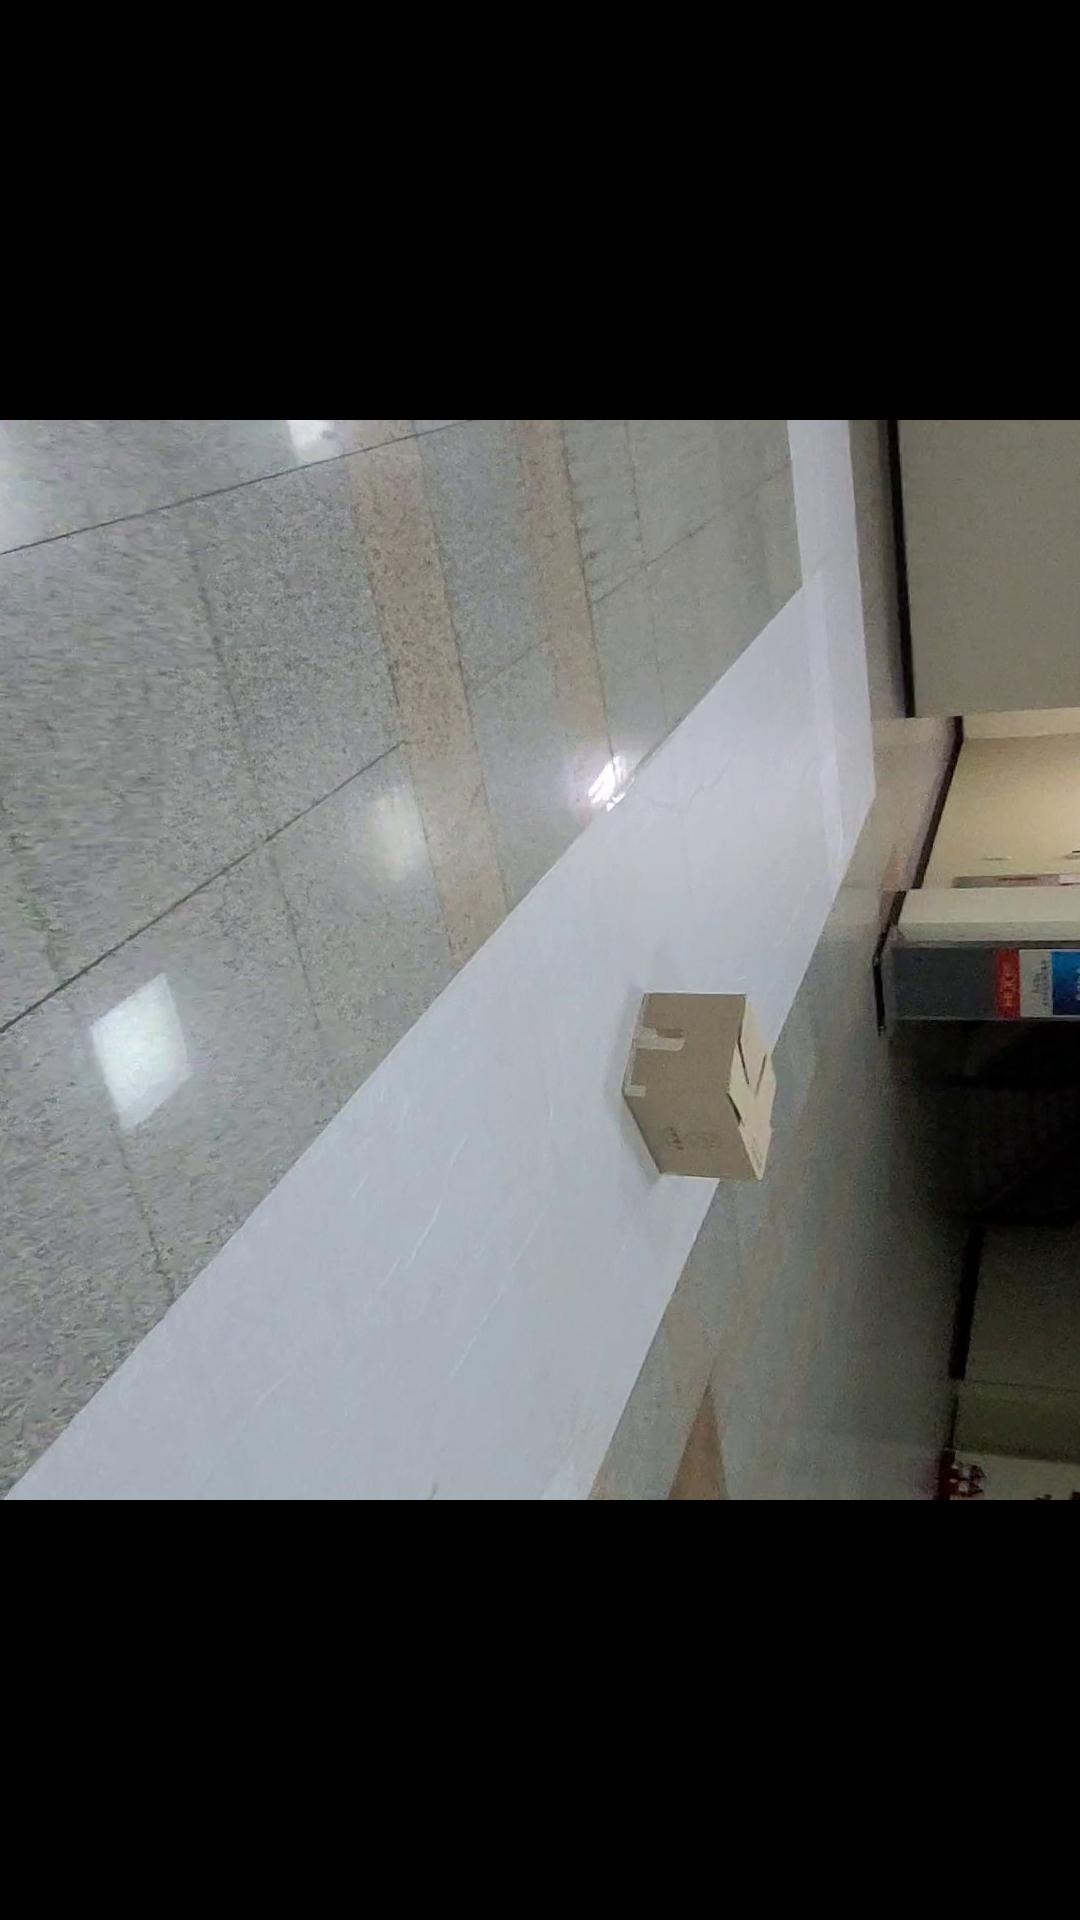Box: (578, 951, 807, 1225)
